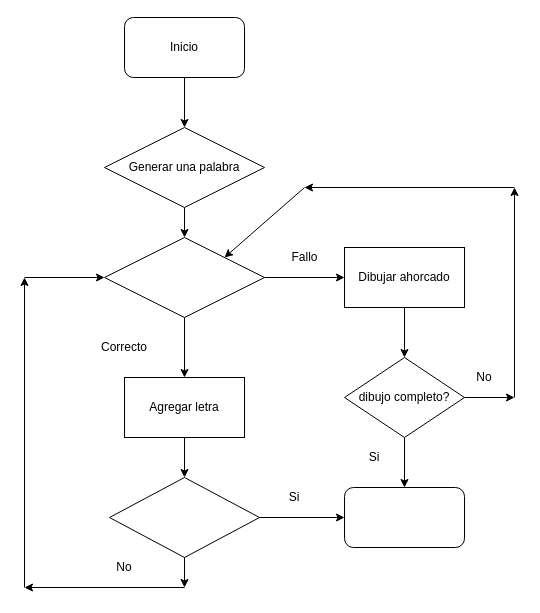
Image size: 540x613. Some labels were removed from this diagram. The centre of each missing label's shape, as x and y in pixels:
"Elige una letra" belongs at [184,277].
"Fin del juego" belongs at [404,517].
"Palabra completa?" belongs at [184,517].
